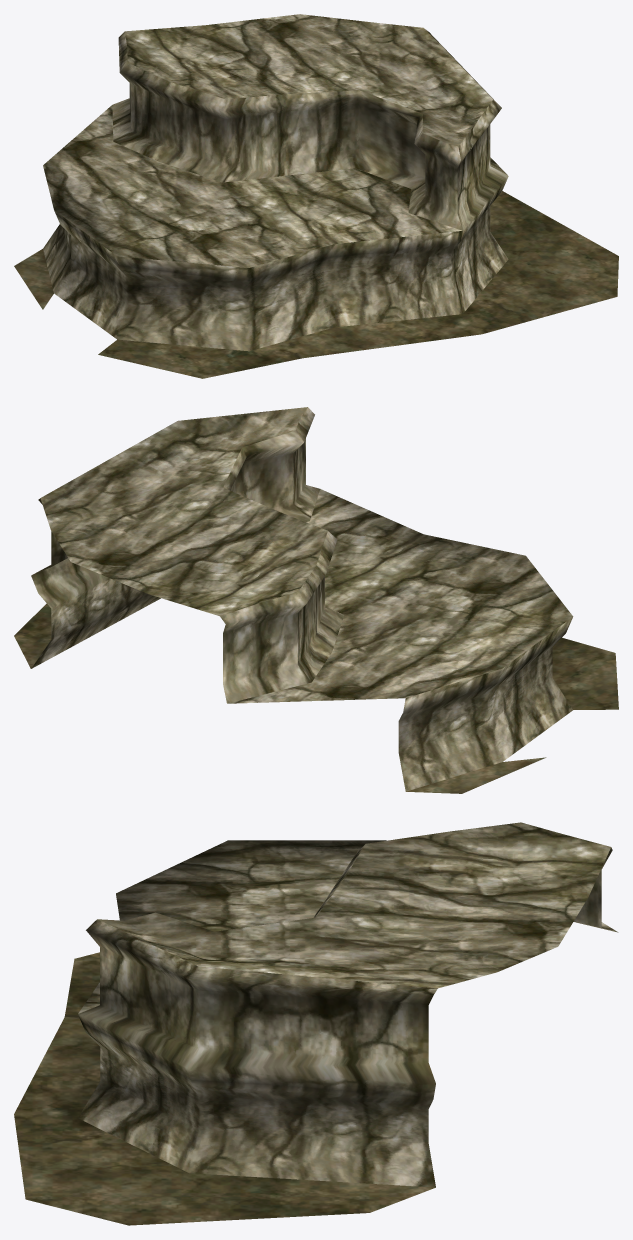
Rendered from CB_NEWPLAYSURFACE_CB_PLAYSURFACE24.fbx.
3 views of the same model, one above another, from view 1: azimuth 30°, elevation 25°; view 2: azimuth 150°, elevation 25°; view 3: azimuth 270°, elevation 25° (orthographic). The views are drawn at different scales.
Parts seen in each view (by area): view 1: CB_NEWPLAYSURFACE_CB_PLAYSURFACE24; view 2: CB_NEWPLAYSURFACE_CB_PLAYSURFACE24; view 3: CB_NEWPLAYSURFACE_CB_PLAYSURFACE24.
Part boxes in pixels (box(x1,y1,x2,y2)): CB_NEWPLAYSURFACE_CB_PLAYSURFACE24: box(14, 14, 618, 378); CB_NEWPLAYSURFACE_CB_PLAYSURFACE24: box(14, 407, 618, 793); CB_NEWPLAYSURFACE_CB_PLAYSURFACE24: box(14, 822, 618, 1225).
Bounding box in the file's own units: 185421 × 57987 × 158244.
Materials: 3 (3 with a texture image).
